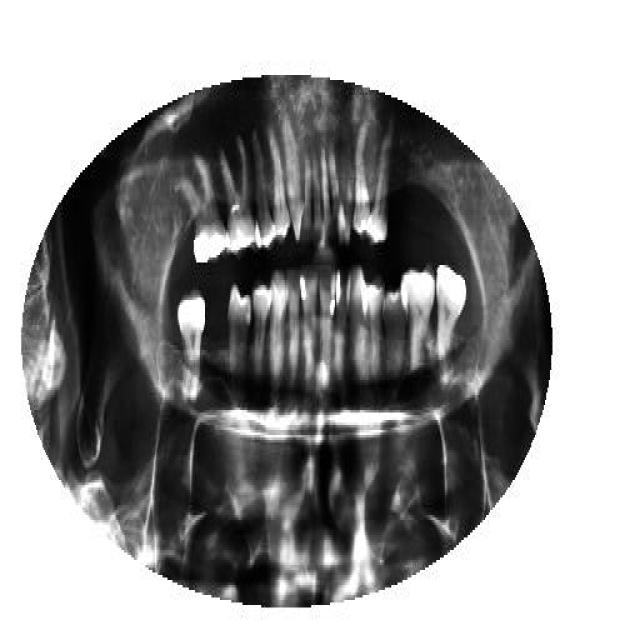Fillings: (180, 153, 226, 265), (219, 135, 256, 260)
